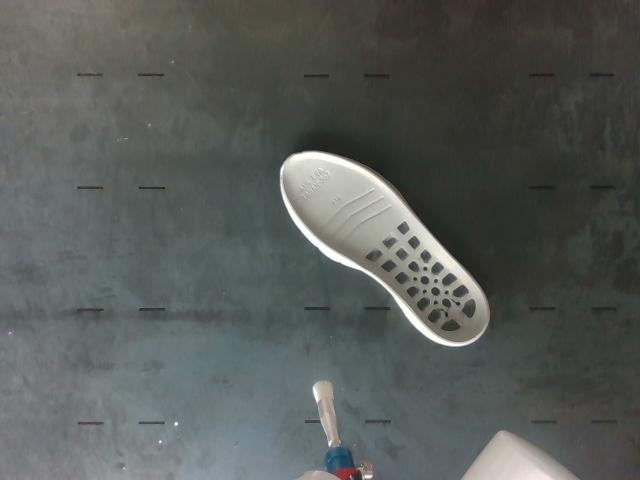shoes: (281, 152, 488, 343)
